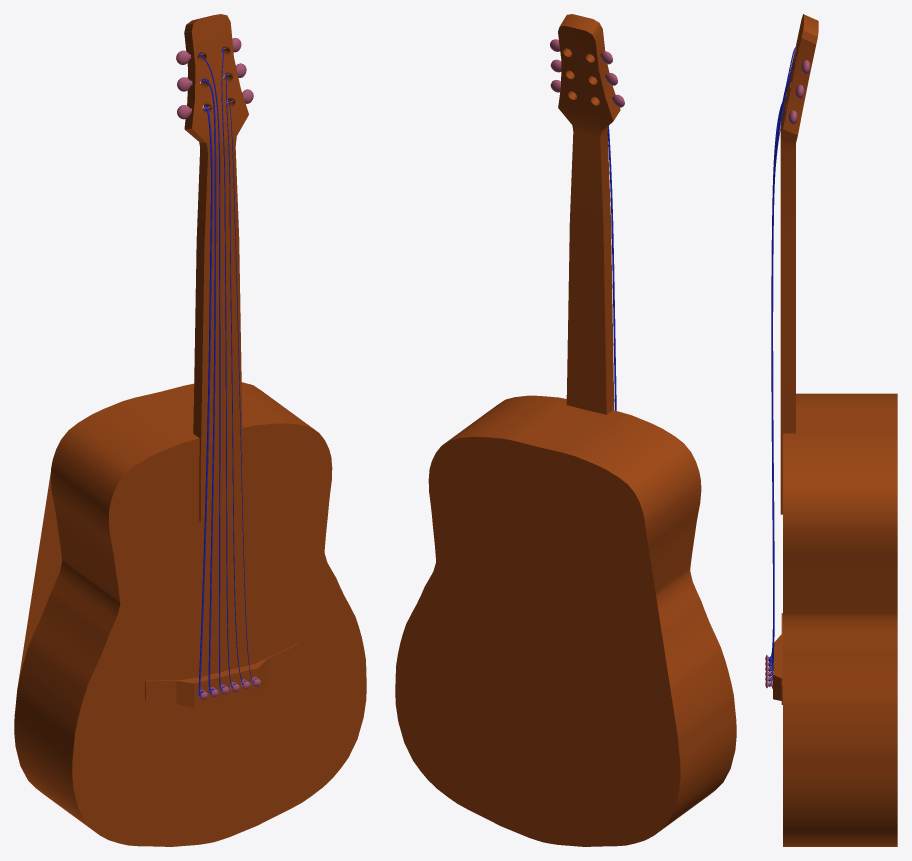
Rendered from Final Guitar (1).fbx.
3 renders of one model, left to right at view 1: azimuth 30°, elevation 25°; view 2: azimuth 150°, elevation 25°; view 3: azimuth 270°, elevation 25°, orthographic. The views are drawn at different scales.
Parts seen in each view (by area): view 1: Body, Strings, Pegs; view 2: Body, Pegs, Strings; view 3: Body, Strings, Pegs.
Boxes of the visible parts, left/top/right/bottom form: Body: left=14, top=14, right=366, bottom=846; Strings: left=197, top=48, right=257, bottom=697; Pegs: left=176, top=38, right=253, bottom=119; Body: left=395, top=14, right=736, bottom=846; Pegs: left=550, top=39, right=624, bottom=107; Strings: left=593, top=76, right=616, bottom=410; Body: left=773, top=14, right=897, bottom=846; Strings: left=769, top=46, right=796, bottom=686; Pegs: left=788, top=60, right=810, bottom=124.
Bounding box in the file's own units: 109 × 287 × 42.75.
